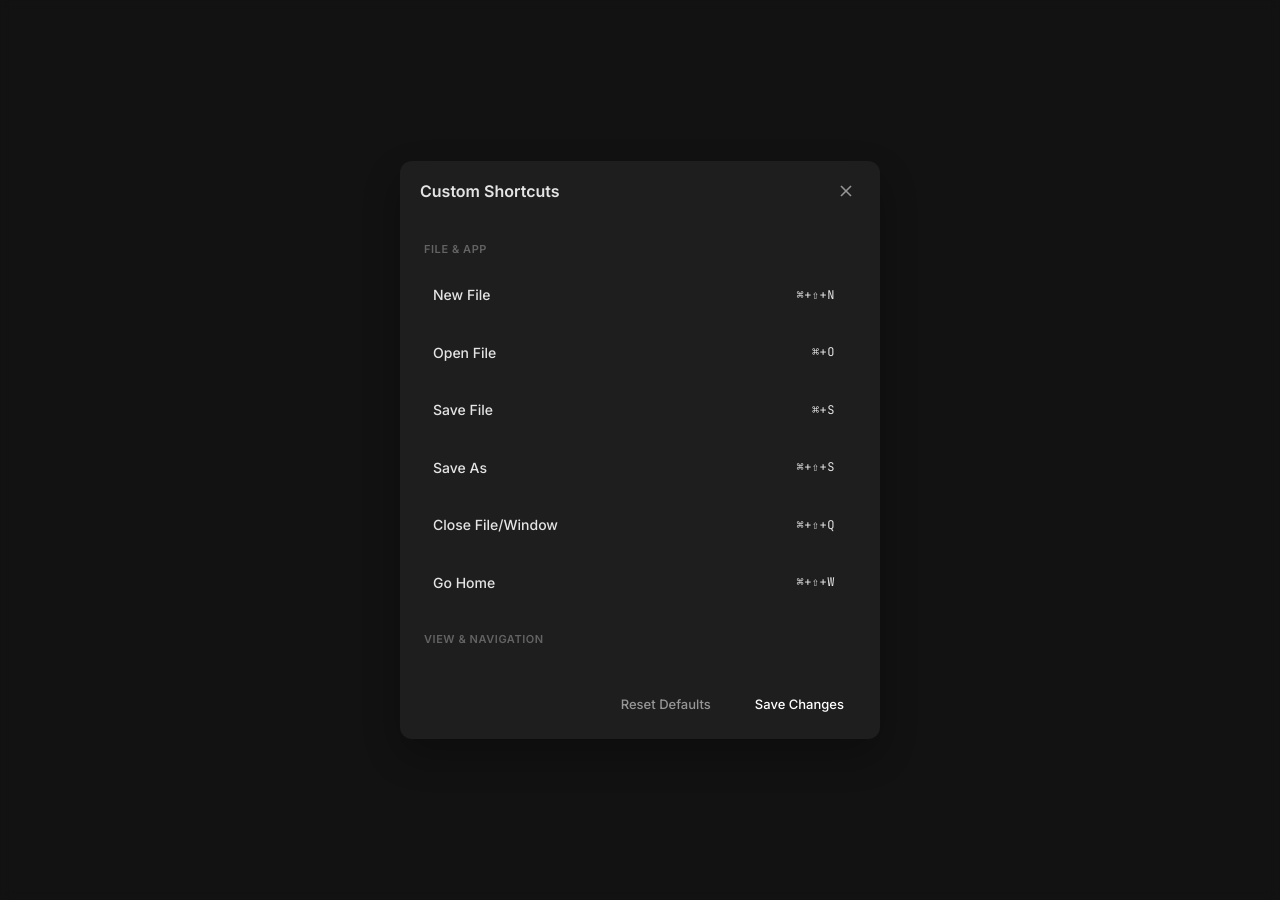
Scenario: ShortcutConfigModal.svelte › rejects standalone keys without modifiers
Step 1. Click the button with class "shortcut-btn" showing "⌘+⇧+N" → x=777, y=295, box [707, 279, 847, 310]
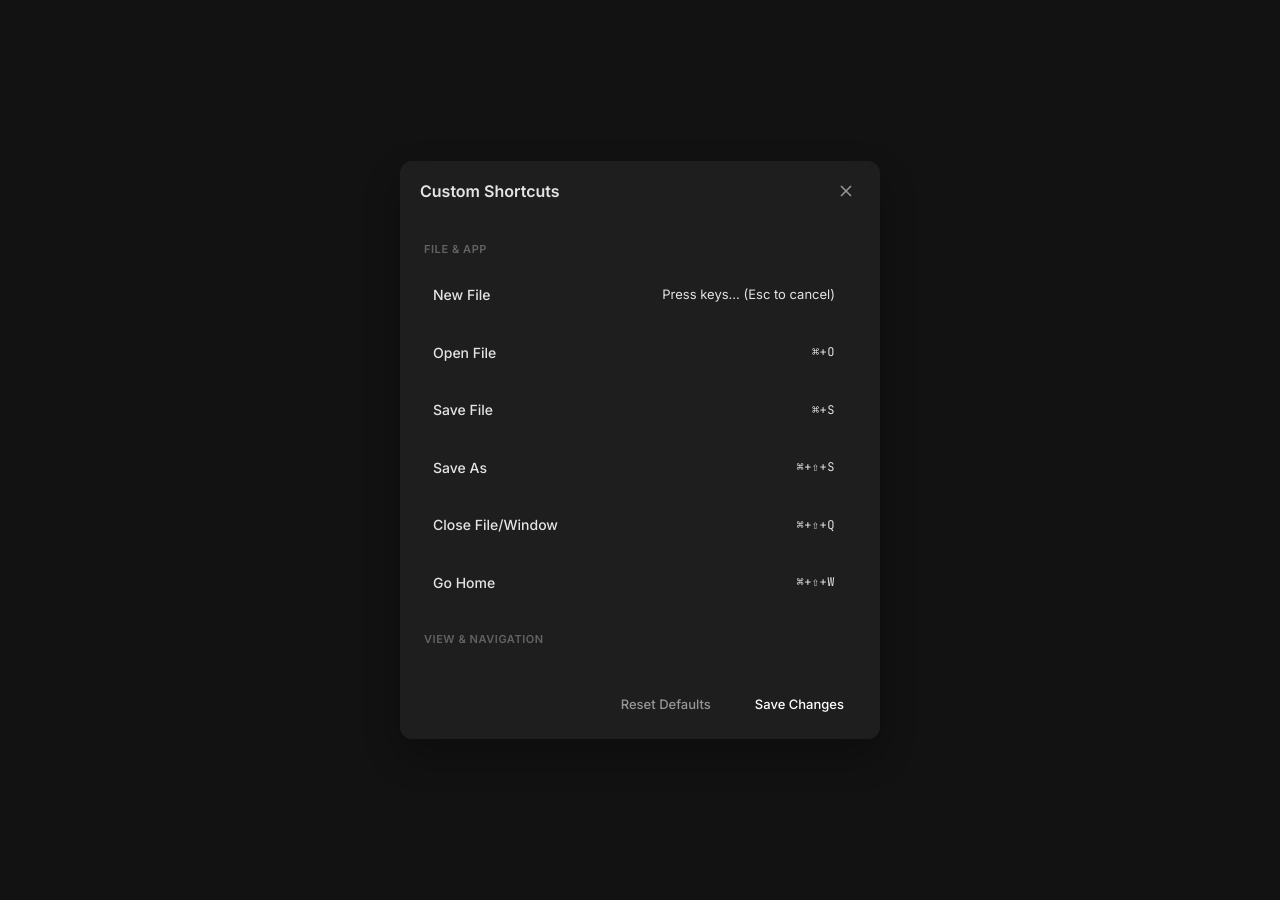
Step 2. Press a in the element with class "modal-content", box [400, 161, 880, 739]
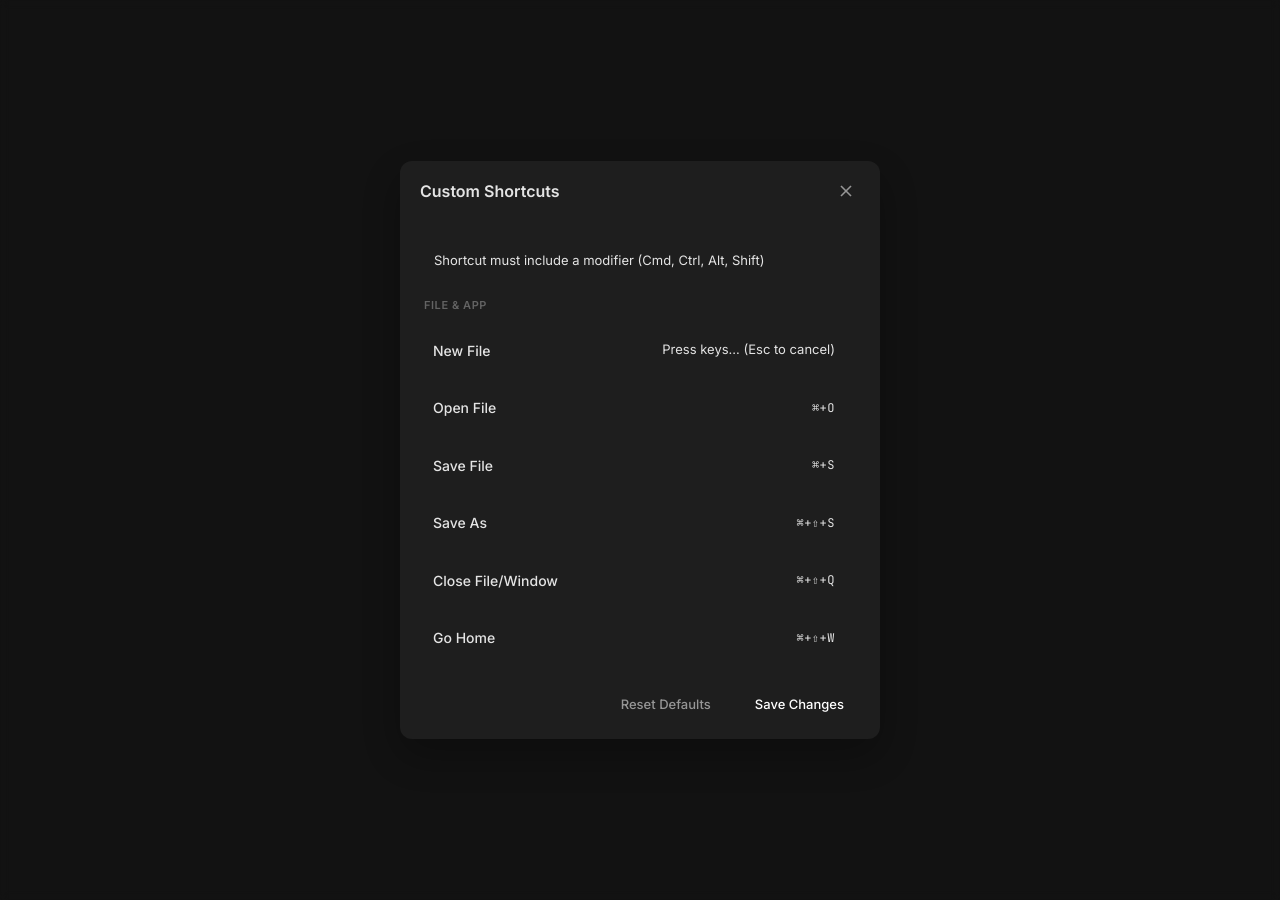
Expected: the text with class "conflict-alert" shows "Shortcut must include a modifier", [434, 252, 764, 268]
